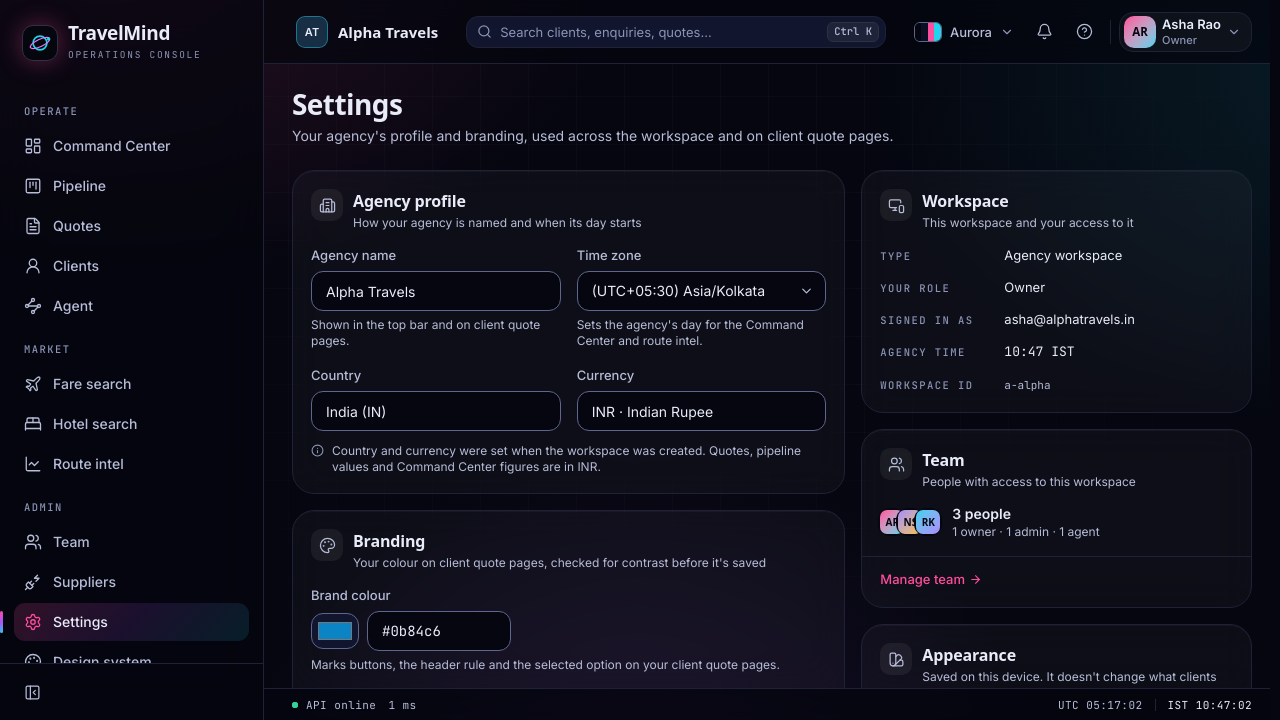
Scenario: a malformed hex is refused inline and blocks saving
The image size is (1280, 720).
Replace the text in the field named "Brand colour hex" with "#12g45z" at {"x": 439, "y": 631}, box [367, 611, 511, 651]
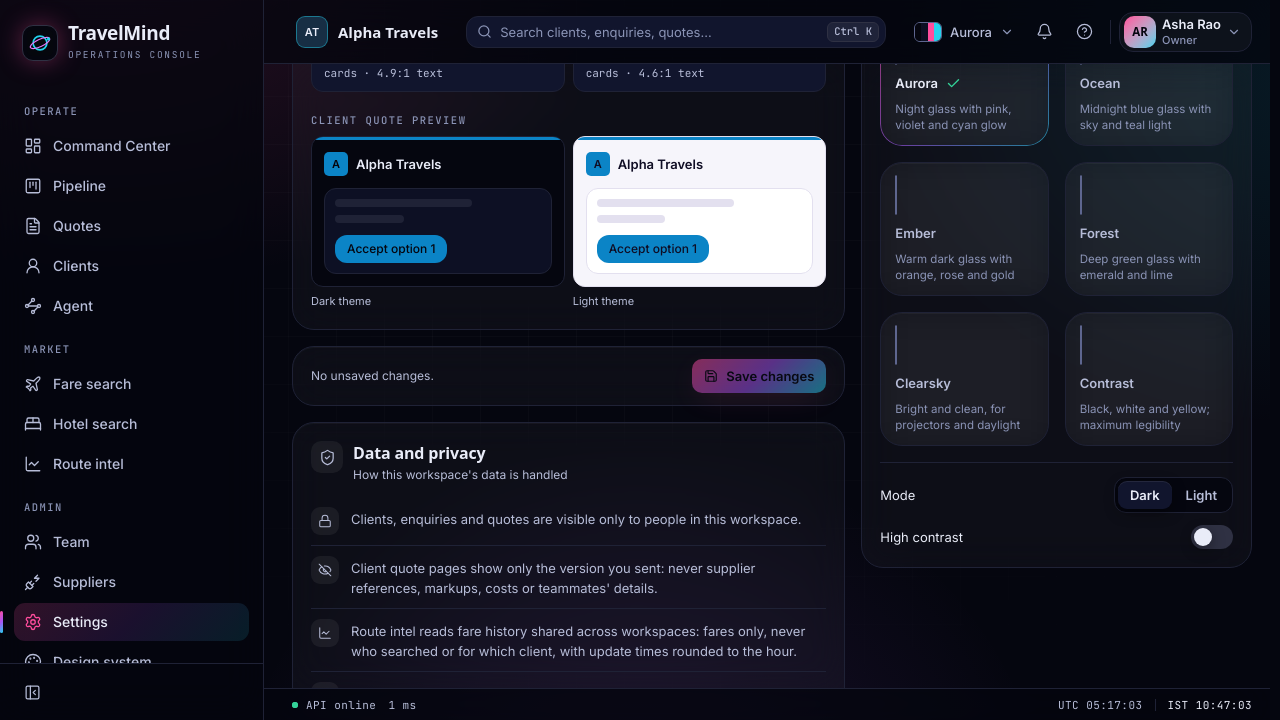
Check: the button "Save changes" is disabled, box [692, 359, 826, 393]
